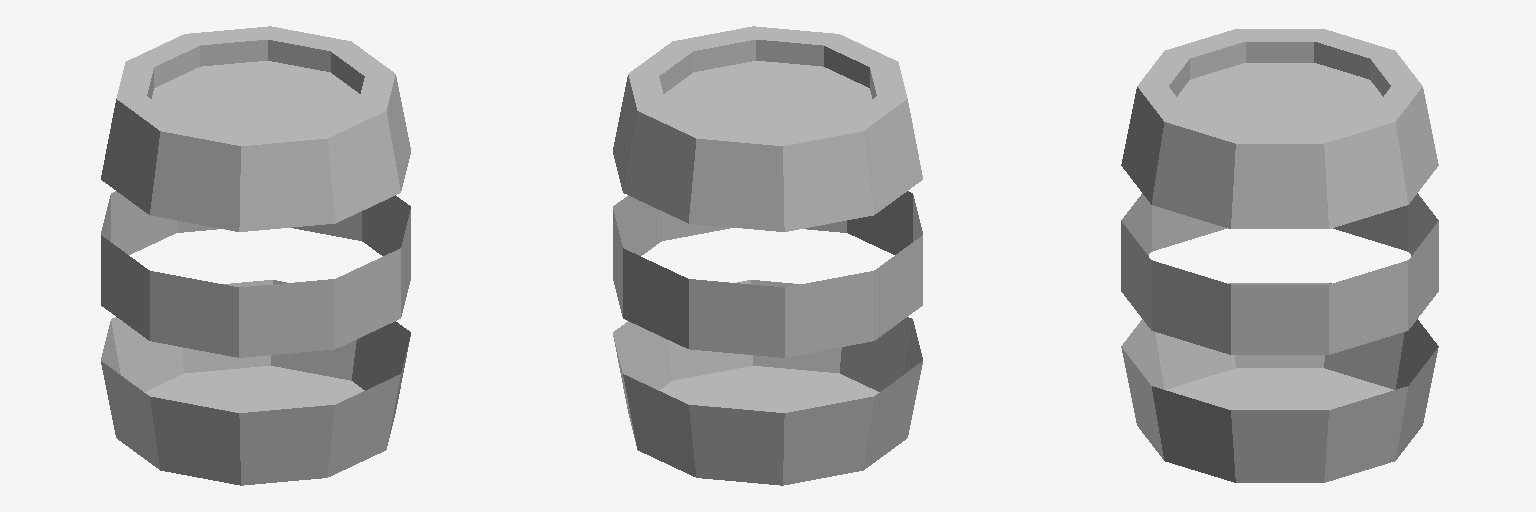
File: barrel.obj
The picture shows the model from 3 angles: view 1: azimuth 30°, elevation 25°; view 2: azimuth 150°, elevation 25°; view 3: azimuth 270°, elevation 25°; orthographic projection.
Visible parts, largest first — view 1: Cylinder; view 2: Cylinder; view 3: Cylinder.
Boxes of the visible parts, x1,y1,x2,y2 form: Cylinder: [101, 26, 410, 485]; Cylinder: [613, 26, 922, 485]; Cylinder: [1121, 29, 1438, 482].
Size of the model in its own units: 2.6 by 3.22 by 2.74.